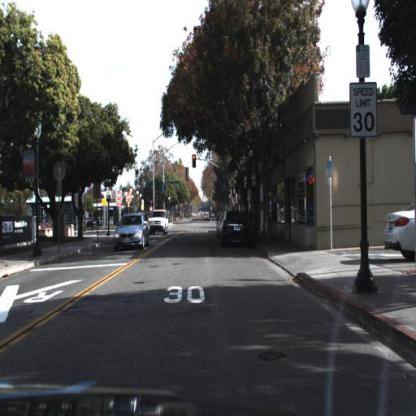car: (384, 201, 416, 263), (113, 213, 152, 253), (219, 209, 252, 248), (150, 210, 171, 235)
trafficLight-Red: (193, 153, 198, 171)
